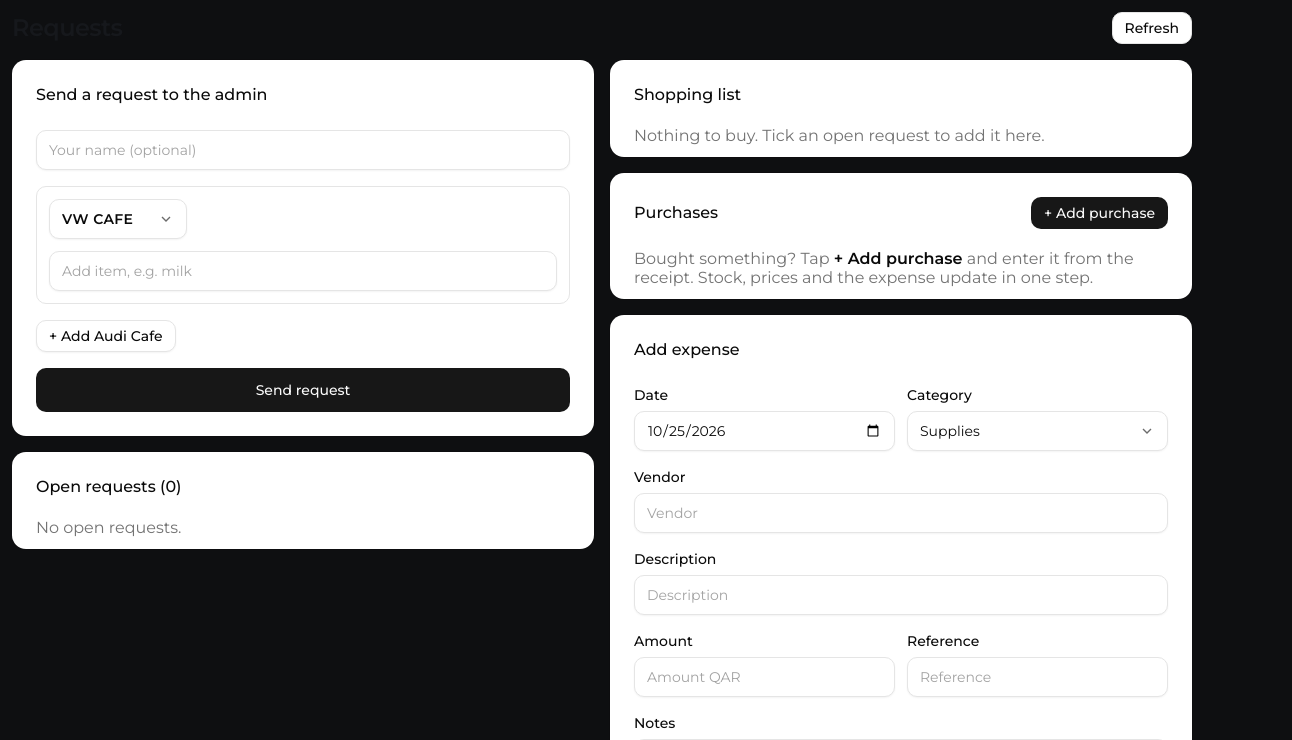
Scenario: Add purchase › opens a blank receipt from the Purchases card, with no request needed
Click the button "+ Add purchase": coordinates (1100, 213) [1031,197,1168,229]
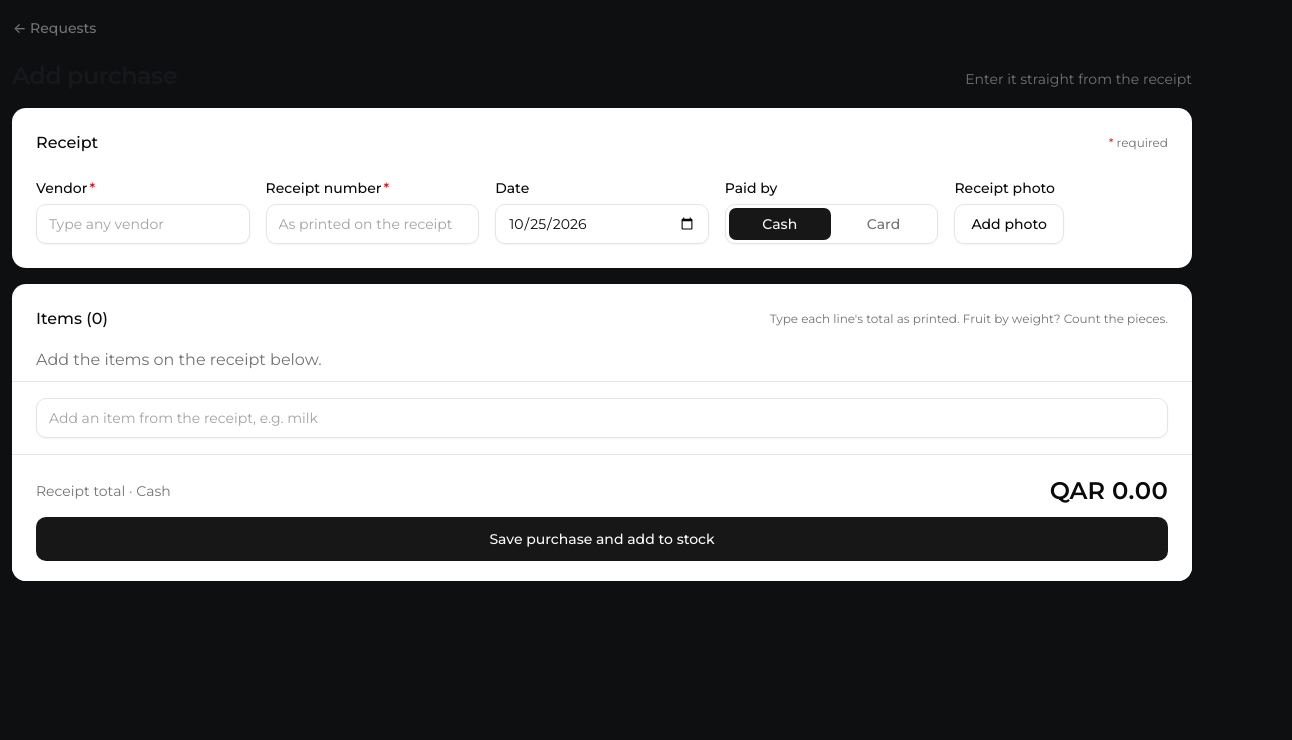
expect the text "Add the items on the receipt below." is shown: met, box [12,338,1192,382]
